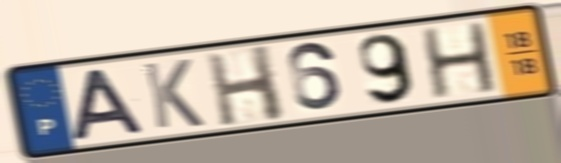6: (285, 39, 346, 116)
9: (356, 32, 416, 107)
A: (70, 65, 150, 144)
H: (202, 41, 290, 129), (417, 19, 502, 102)
K: (139, 56, 208, 131)
